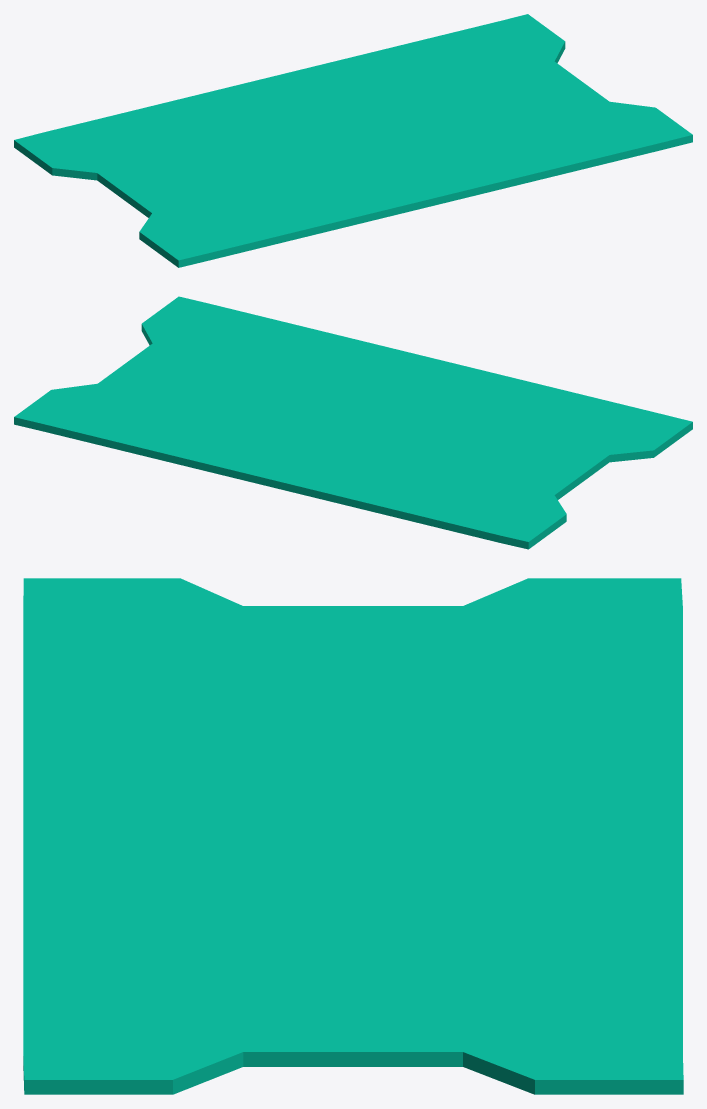
File: m_liftplatform.fbx
3 views of the same model, one above another, from view 1: azimuth 30°, elevation 25°; view 2: azimuth 150°, elevation 25°; view 3: azimuth 270°, elevation 25° (orthographic). The views are drawn at different scales.
Visible parts, largest first — view 1: BottomPlate; view 2: BottomPlate; view 3: BottomPlate.
Part boxes in pixels (bbox=[...]): BottomPlate: bbox=[14, 14, 692, 267]; BottomPlate: bbox=[14, 296, 692, 549]; BottomPlate: bbox=[23, 578, 683, 1094].
Size of the model in its own units: 7.95 by 0.1105 by 4.42.
